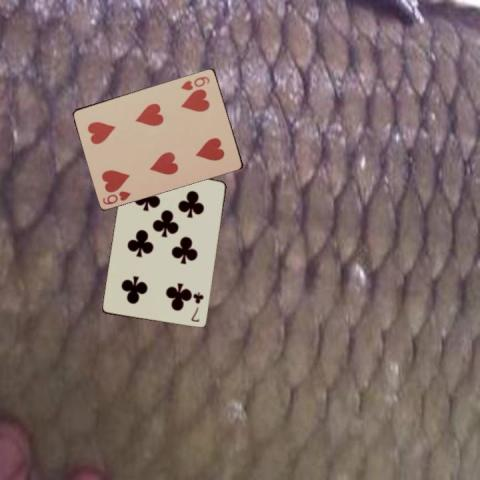6h: (178, 74, 211, 92), (100, 188, 132, 206)
7c: (189, 290, 205, 324)
